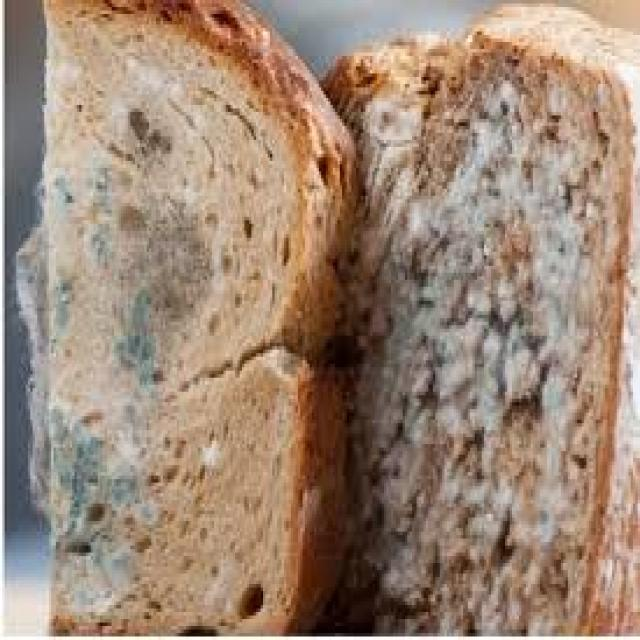Wet Waste: (38, 3, 636, 640)
